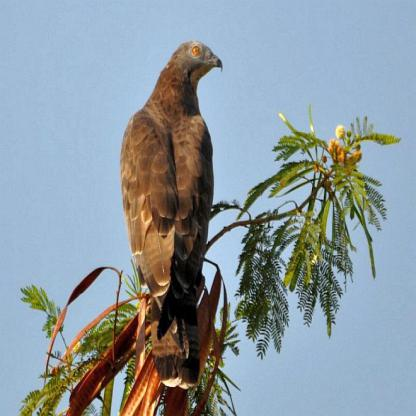Burung: (112, 36, 225, 404)
